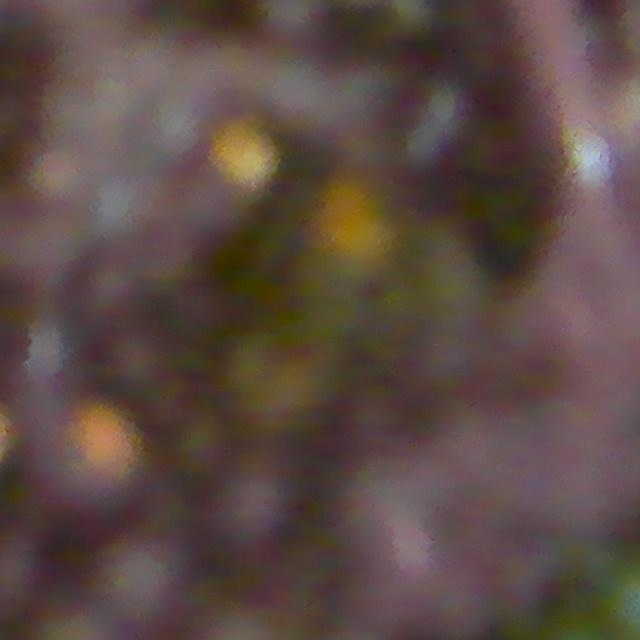SeaGrape: (83, 550, 192, 636), (205, 459, 285, 543), (173, 415, 232, 477)
